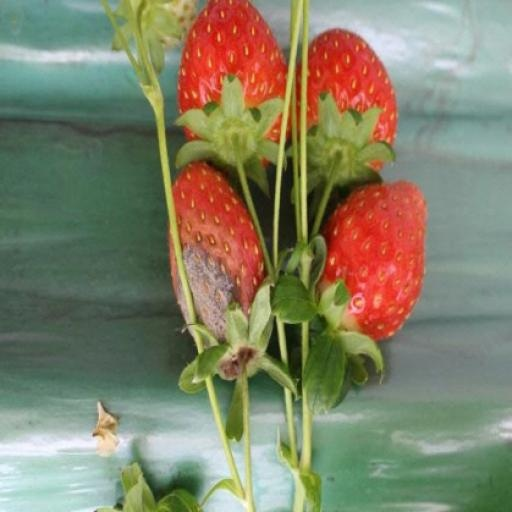Gray Mold: (170, 168, 245, 271)
